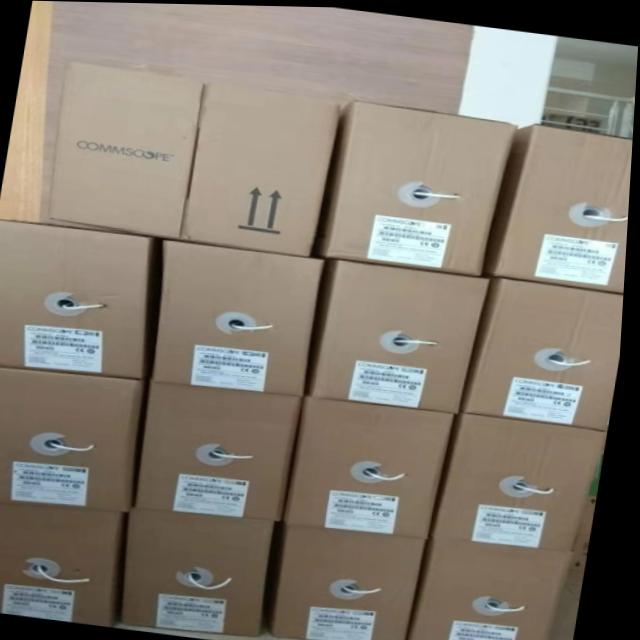box: (313, 99, 517, 274), (312, 255, 492, 412), (49, 60, 205, 238), (183, 80, 342, 254), (155, 237, 326, 392), (484, 121, 634, 292), (0, 217, 158, 378), (286, 393, 459, 538), (466, 273, 627, 425), (439, 409, 612, 549), (139, 380, 305, 520), (0, 366, 147, 510), (123, 507, 278, 634), (284, 524, 435, 640), (417, 537, 575, 640), (0, 502, 127, 626)
